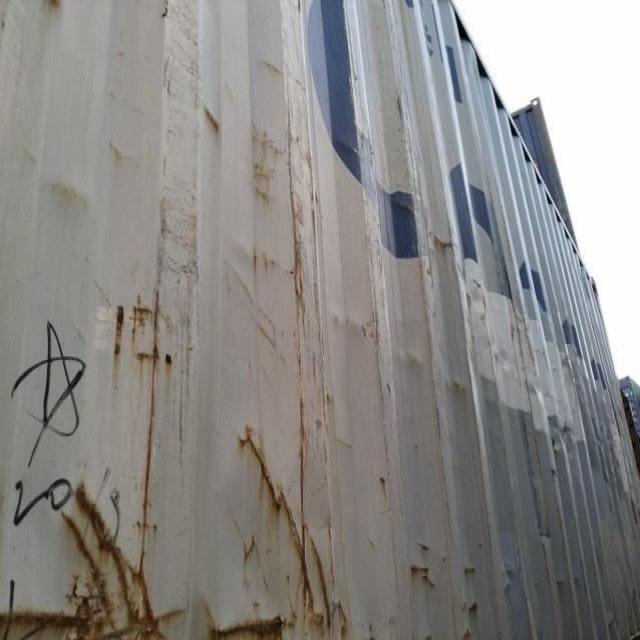rust: (217, 436, 345, 637), (59, 482, 180, 640), (115, 301, 179, 374)
